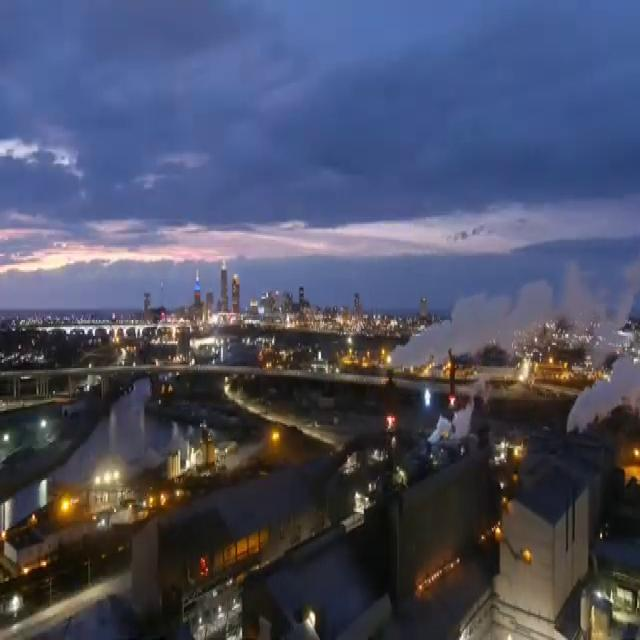smoke: (394, 279, 588, 370), (566, 356, 640, 434), (425, 393, 474, 452)
